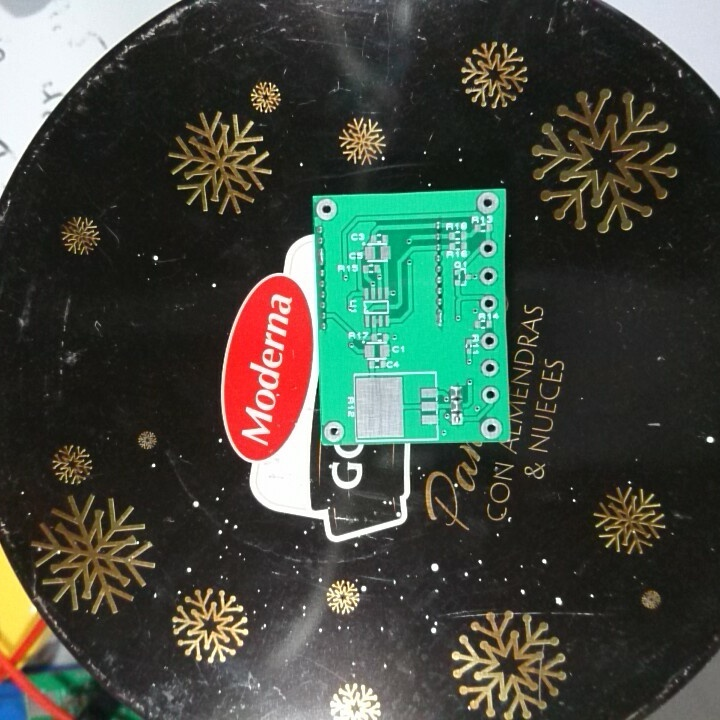F: (321, 418, 347, 444), (474, 190, 501, 215), (314, 197, 340, 222), (478, 328, 501, 353), (477, 264, 500, 288), (477, 358, 501, 381), (478, 237, 501, 260), (479, 417, 504, 438), (477, 292, 499, 314), (480, 383, 501, 406), (449, 411, 464, 428)
P: (434, 306, 448, 329), (316, 245, 329, 269)
